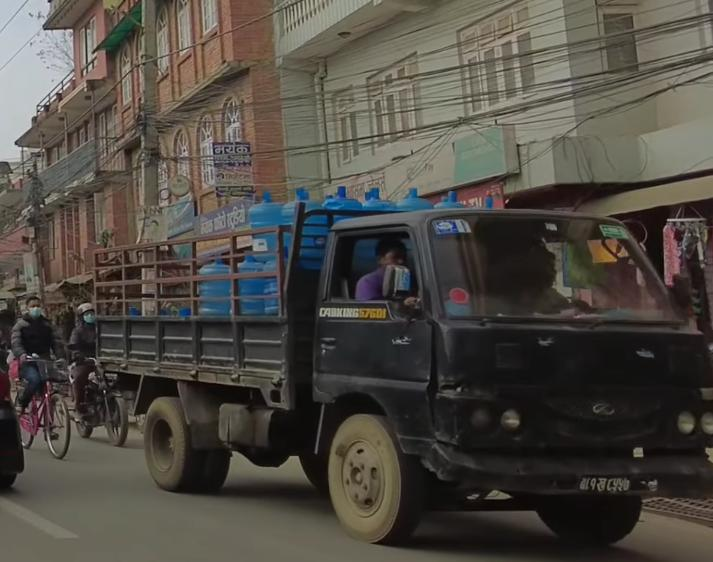mini_truck: (83, 176, 708, 558)
